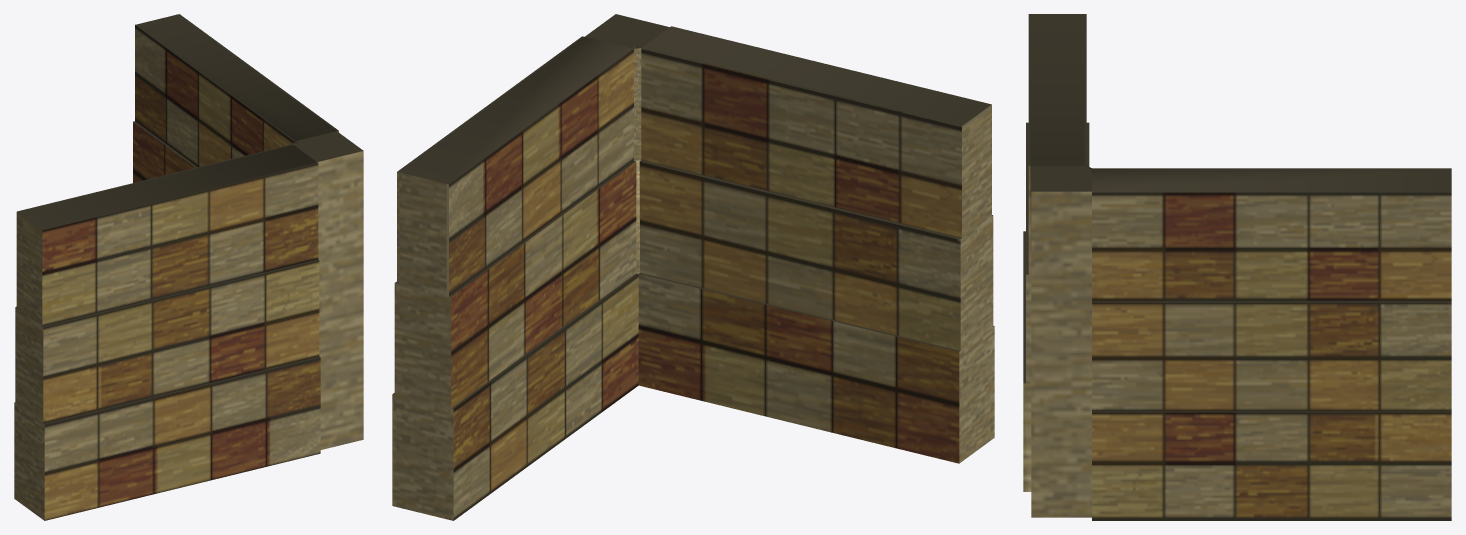
File: Wall Style 2 Corner_V3 (1).fbx
3 renders of one model, left to right at view 1: azimuth 30°, elevation 25°; view 2: azimuth 150°, elevation 25°; view 3: azimuth 270°, elevation 25°, orthographic. The views are drawn at different scales.
Parts seen in each view (by area): view 1: Wall Style 2 Corner.002; view 2: Wall Style 2 Corner.002; view 3: Wall Style 2 Corner.002.
Boxes of the visible parts, x1,y1,x2,y2 form: Wall Style 2 Corner.002: [14, 14, 363, 520]; Wall Style 2 Corner.002: [392, 14, 994, 520]; Wall Style 2 Corner.002: [1023, 14, 1451, 520].
Size of the model in its own units: 119 by 100 by 119.
